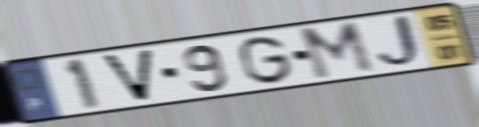1: (61, 56, 104, 112)
9: (183, 44, 229, 93)
G: (237, 34, 296, 87)
J: (373, 12, 426, 71)
M: (295, 18, 378, 83)
V: (97, 47, 156, 105)
